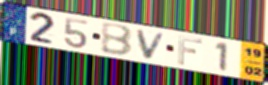1: (214, 42, 230, 73)
2: (27, 11, 57, 47)
5: (64, 16, 90, 49)
B: (100, 22, 135, 58)
F: (176, 35, 204, 66)
V: (134, 28, 168, 61)
